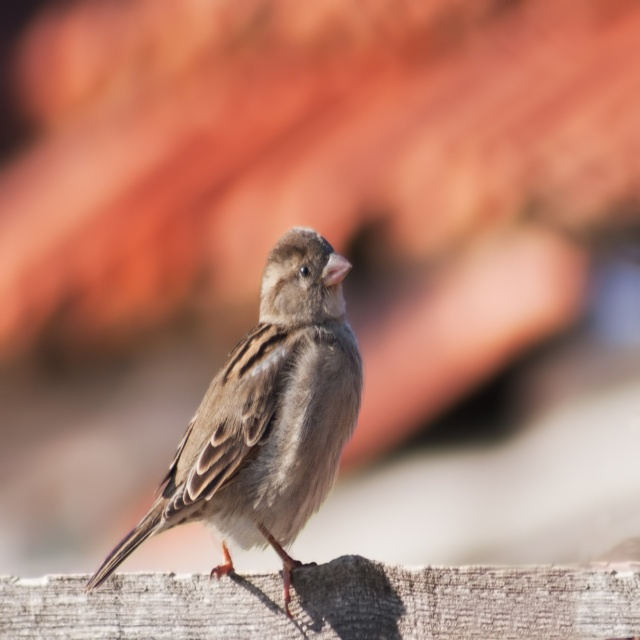Sparrow: (82, 219, 366, 622)
